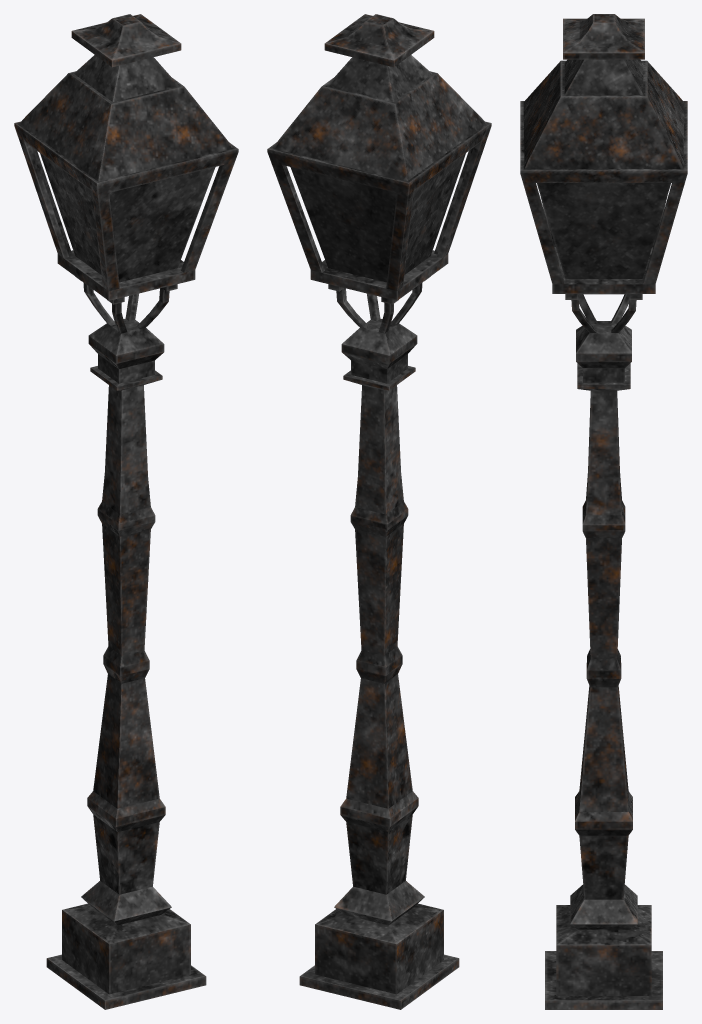
The model's file is Lantern.fbx.
3 views of the same model, side by side, from view 1: azimuth 30°, elevation 25°; view 2: azimuth 150°, elevation 25°; view 3: azimuth 270°, elevation 25° (orthographic).
Visible parts, largest first — view 1: Plane; view 2: Plane; view 3: Plane.
Part boxes in pixels (left/top/right/bottom): Plane: left=14, top=14, right=238, bottom=1009; Plane: left=267, top=14, right=491, bottom=1009; Plane: left=520, top=14, right=687, bottom=1009.
Bounding box in the file's own units: 146 × 941 × 148.
Materials: 1 (1 with a texture image).
